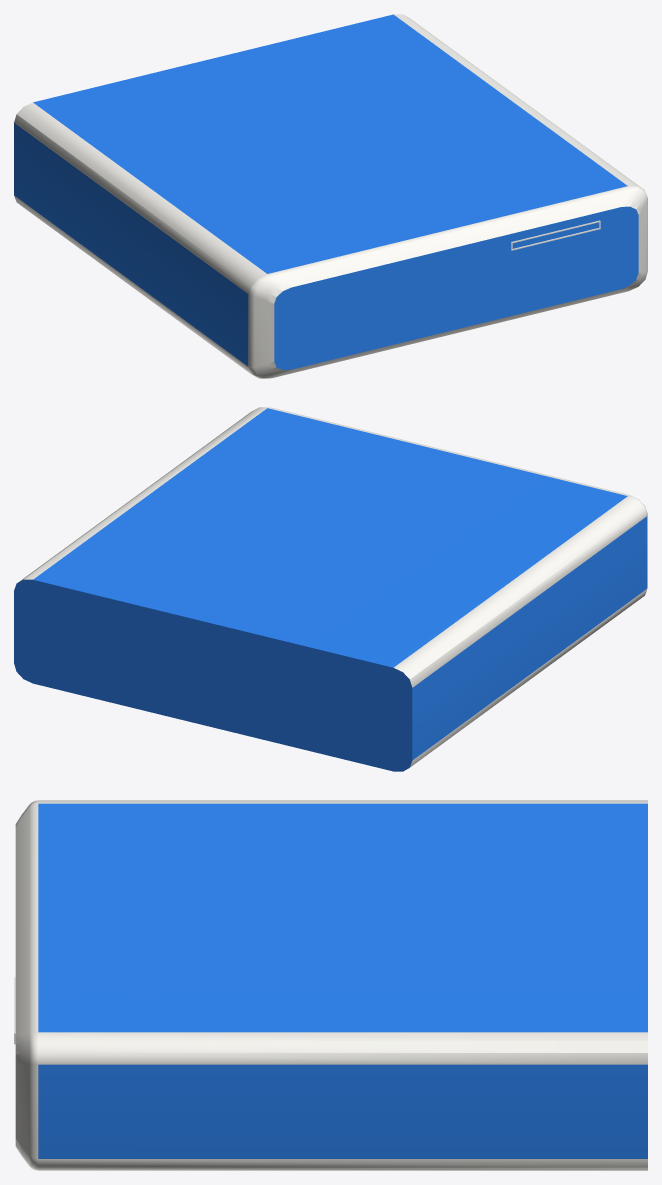
File: CPU.fbx
3 renders of one model, top to bottom at view 1: azimuth 30°, elevation 25°; view 2: azimuth 150°, elevation 25°; view 3: azimuth 270°, elevation 25°, orthographic. The views are drawn at different scales.
Visible parts, largest first — view 1: CPU; view 2: CPU; view 3: CPU.
Part boxes in pixels (x1=…): CPU: x1=14, y1=14, x2=647, y2=378; CPU: x1=14, y1=407, x2=647, y2=771; CPU: x1=14, y1=800, x2=647, y2=1170.
Bounding box in the file's own units: 3.67 × 0.9141 × 3.89.
Materials: 2 (2 with a texture image).
